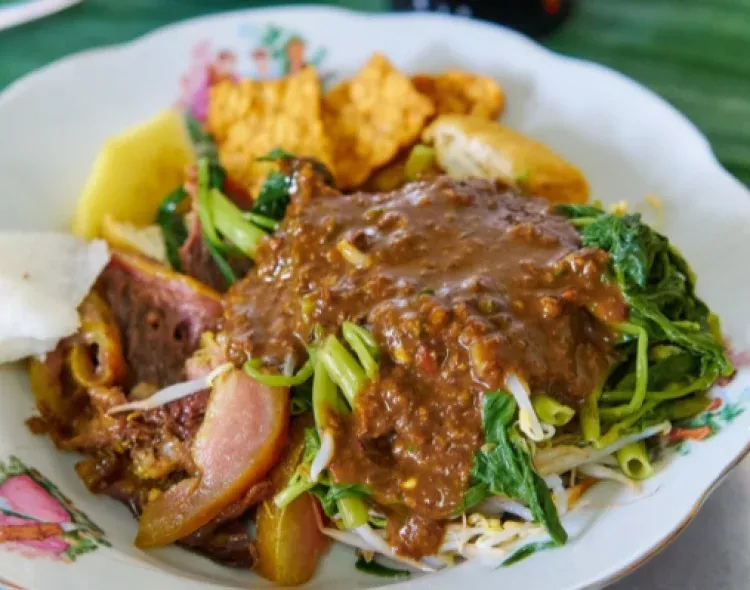rujak_cingur: (3, 53, 733, 588)
